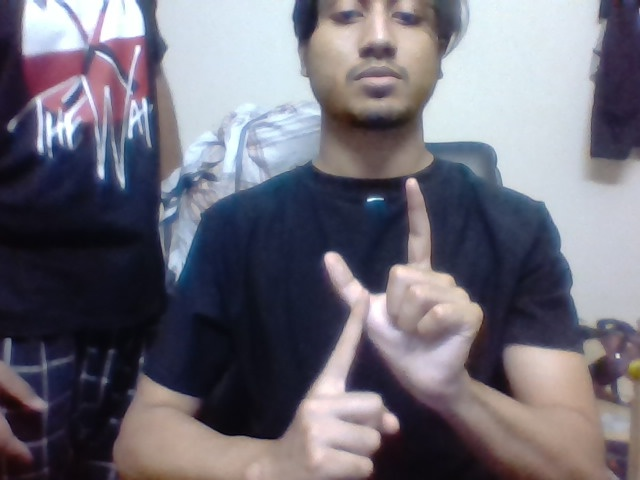Y: (319, 175, 440, 374)
